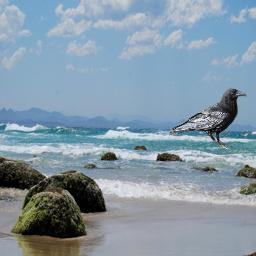Crow: (168, 87, 247, 149)
